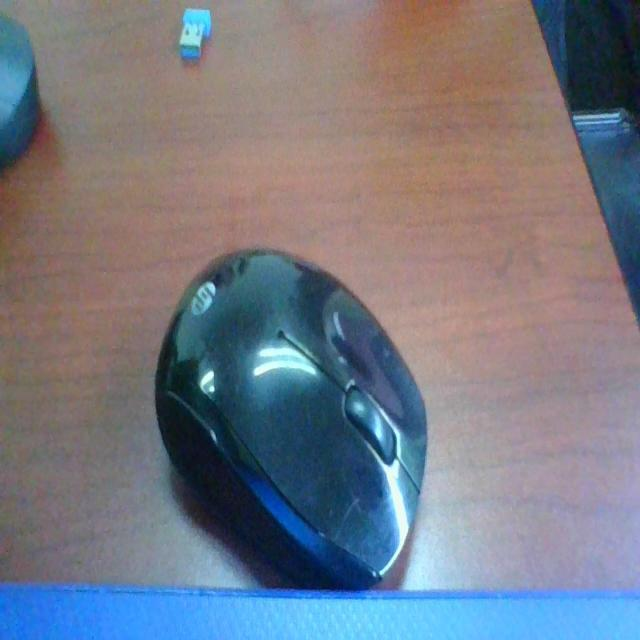mouse: (134, 218, 470, 592)
